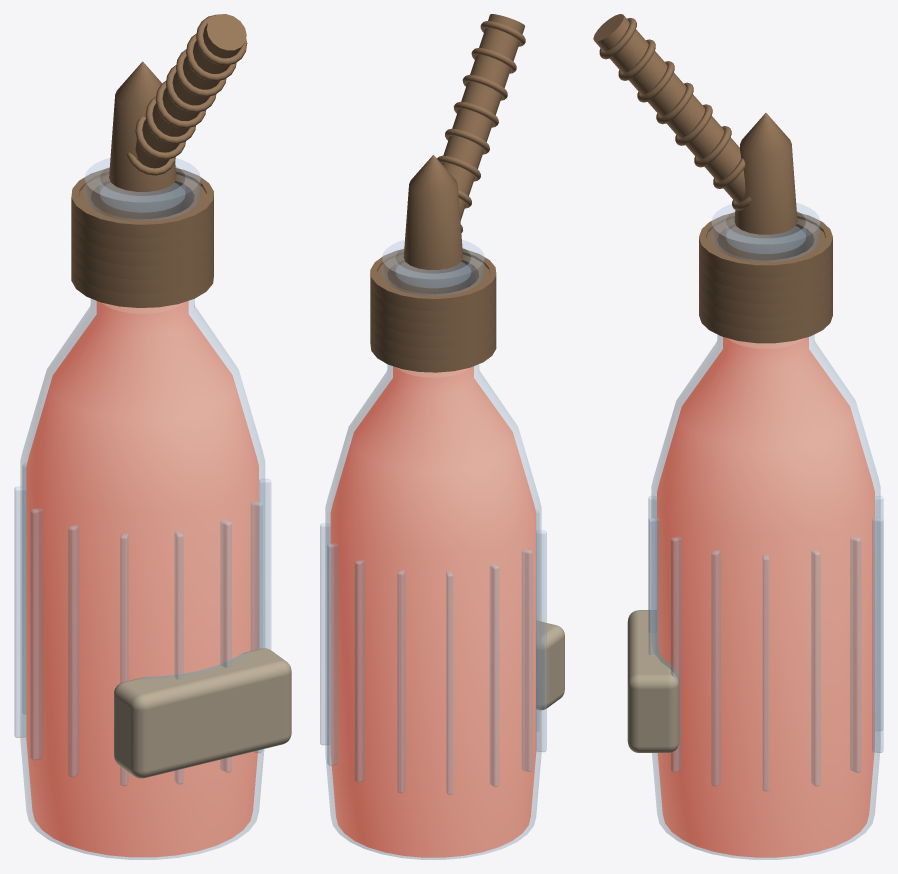
Rendered from mega-weapon-pack-firebomb-89eb64f3__33364.glb.
3 renders of one model, left to right at view 1: azimuth 30°, elevation 25°; view 2: azimuth 150°, elevation 25°; view 3: azimuth 270°, elevation 25°, orthographic. The views are drawn at different scales.
Parts seen in each view (by area): view 1: firebomb; view 2: firebomb; view 3: firebomb.
Part boxes in pixels (x1=…): firebomb: x1=14, y1=14, x2=291, y2=859; firebomb: x1=320, y1=14, x2=564, y2=859; firebomb: x1=593, y1=14, x2=883, y2=859.
Size of the model in its own units: 0.084 by 0.3109 by 0.1013.
